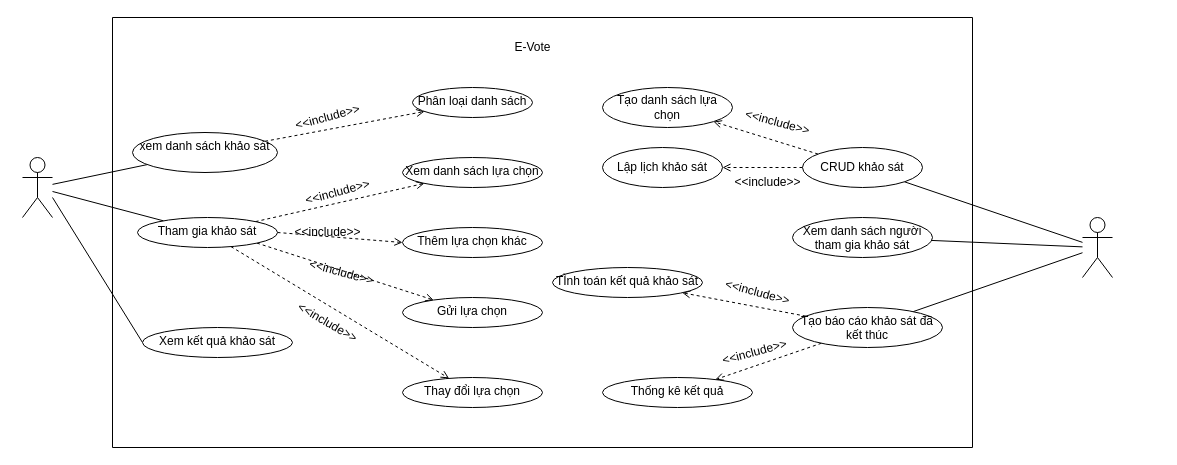
Image size: 1177x465. Some labels were removed from this diagram. Each missing label, with the centre of its shape:
"Bộ phận xử lý Khảo sát" goes at (1097,247).
"Cư dân" goes at (37,187).
